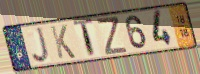4: (152, 9, 176, 50)
6: (125, 14, 148, 51)
J: (31, 25, 52, 65)
K: (49, 23, 77, 60)
T: (72, 17, 97, 60)
Z: (95, 16, 129, 57)
